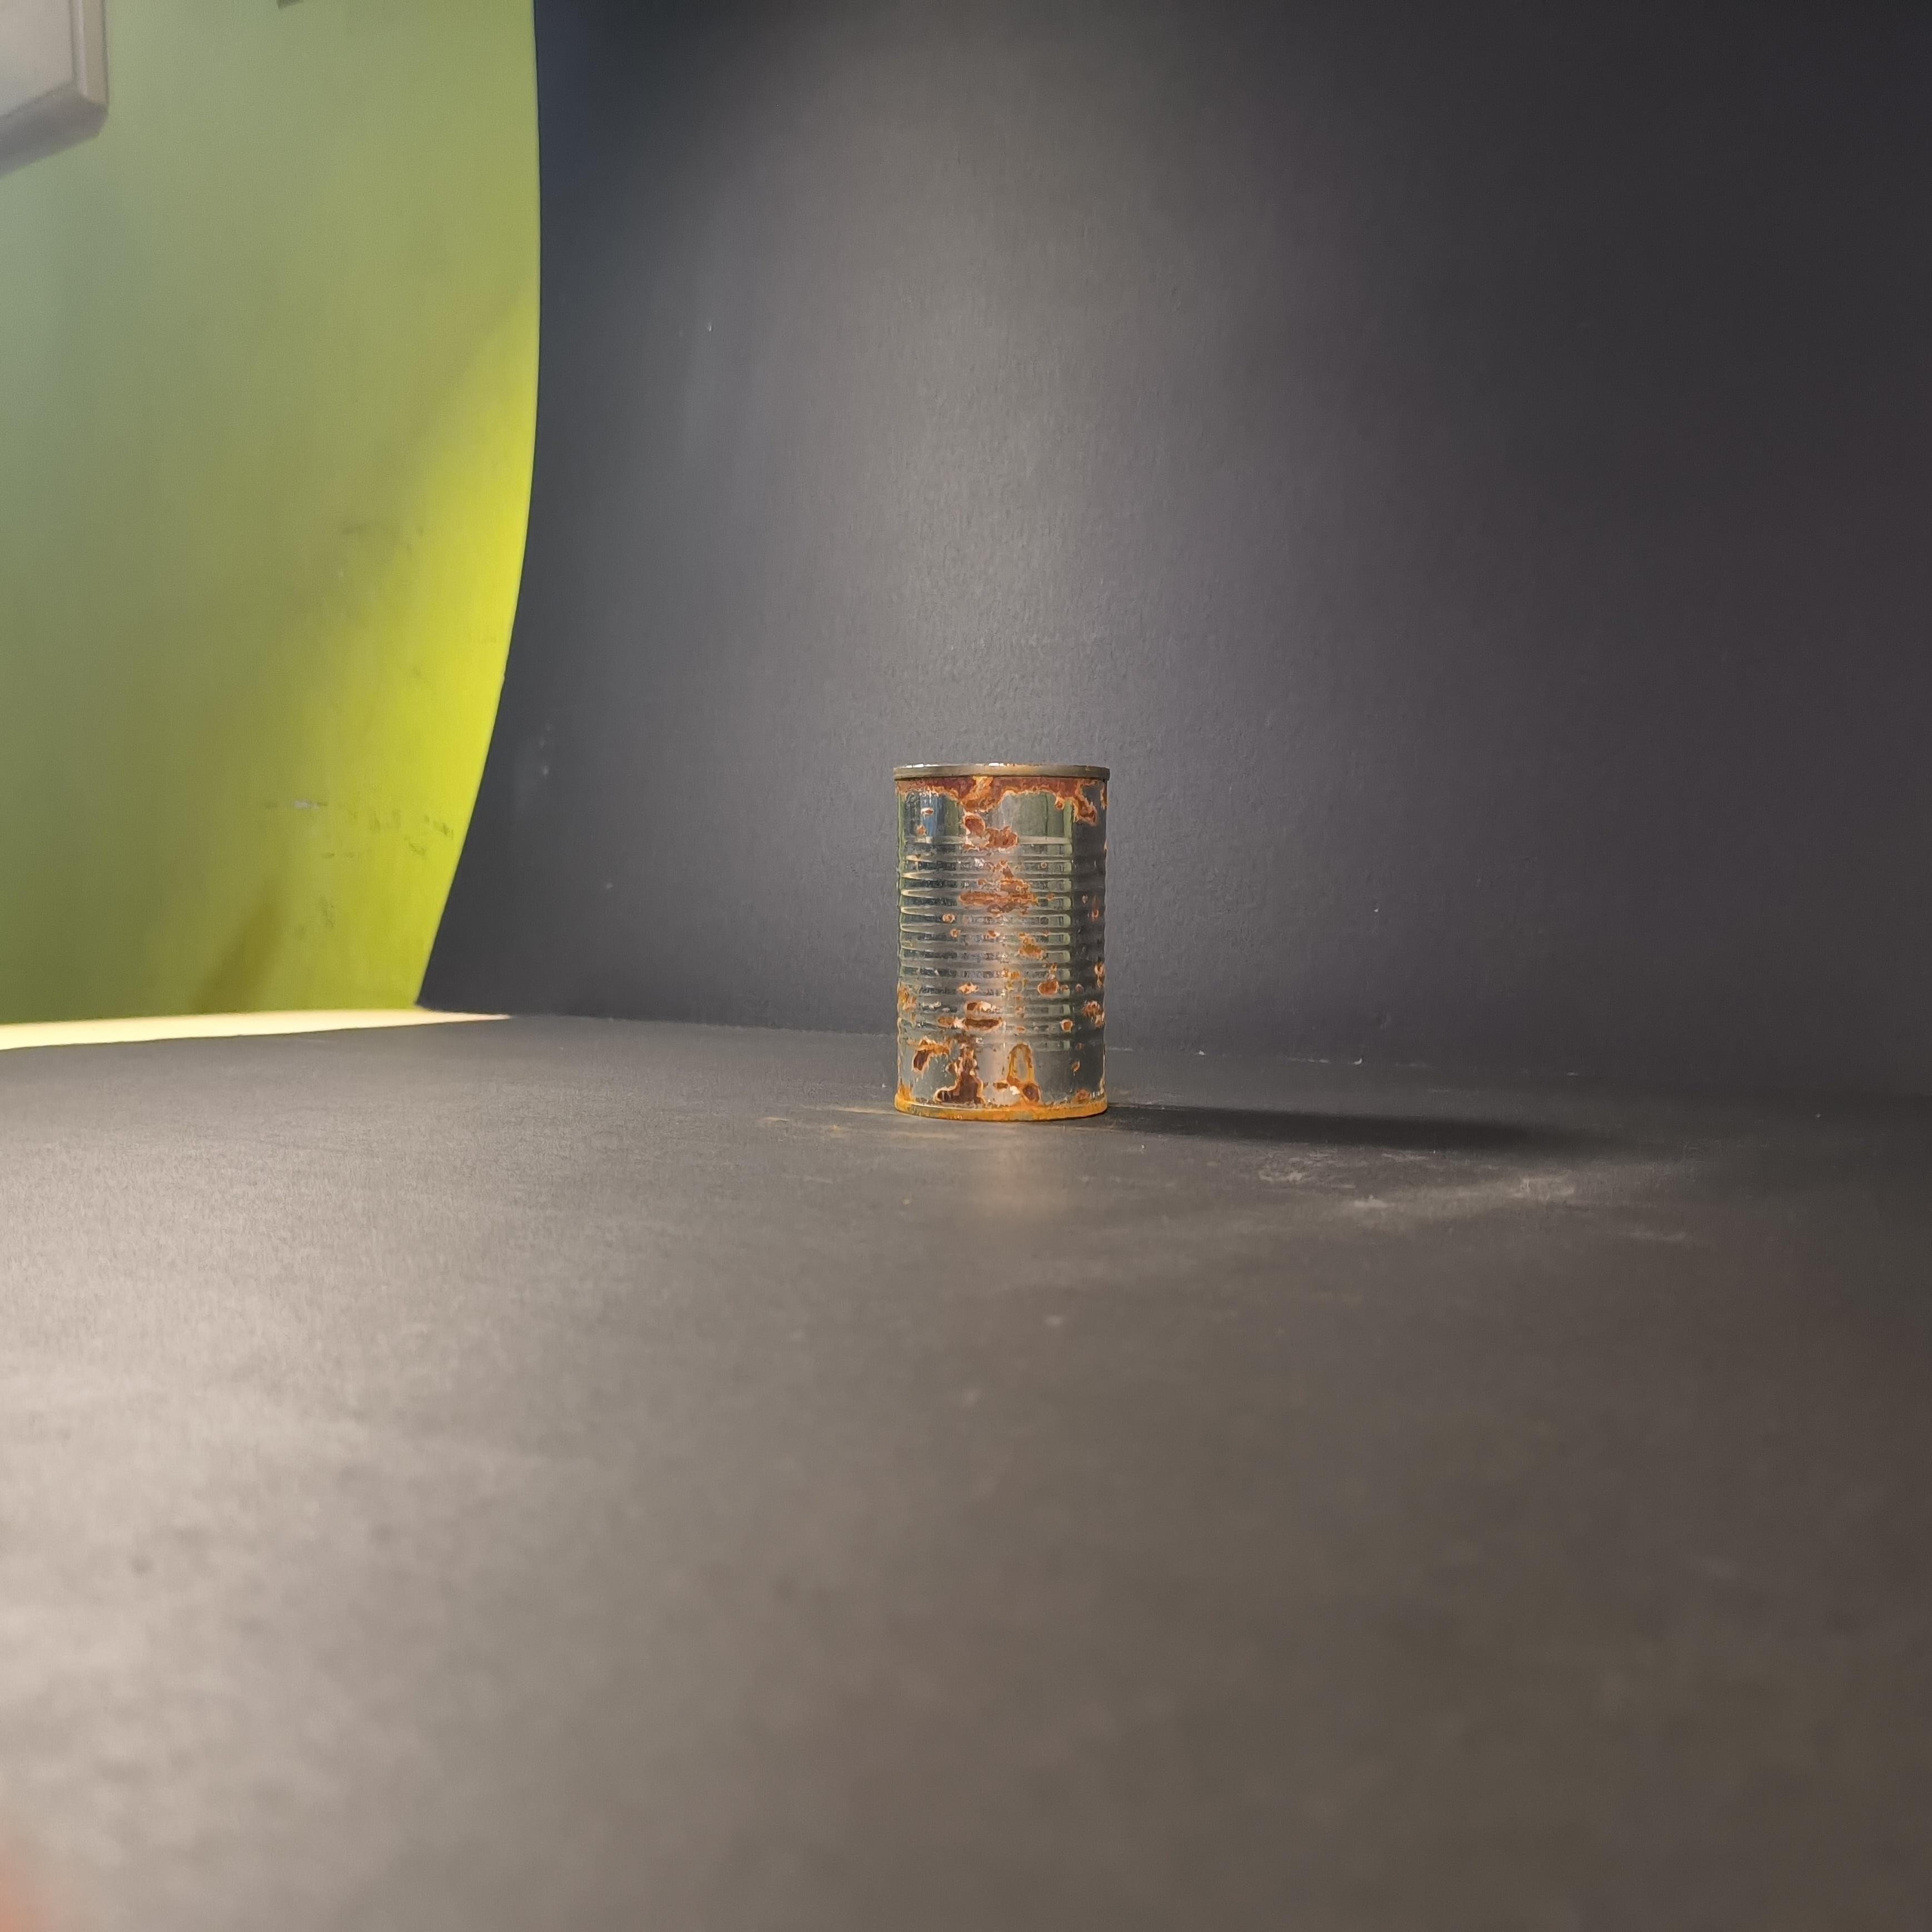Rusted: (879, 743, 1123, 1129)
